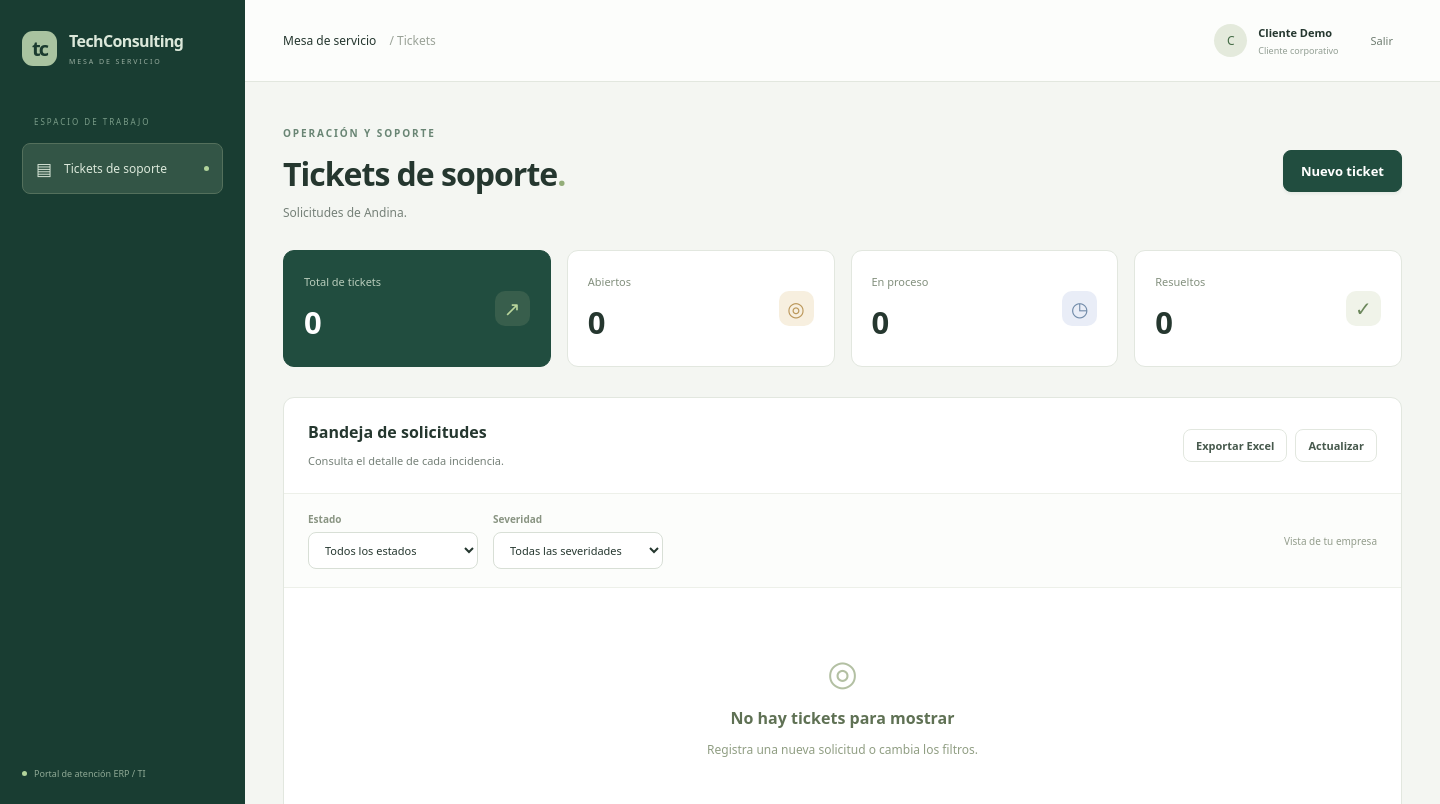
Test: Exportación de tickets › muestra el error sin descargar un archivo inválido
Click the button "Exportar Excel": (1235, 446) [1183,429,1287,462]
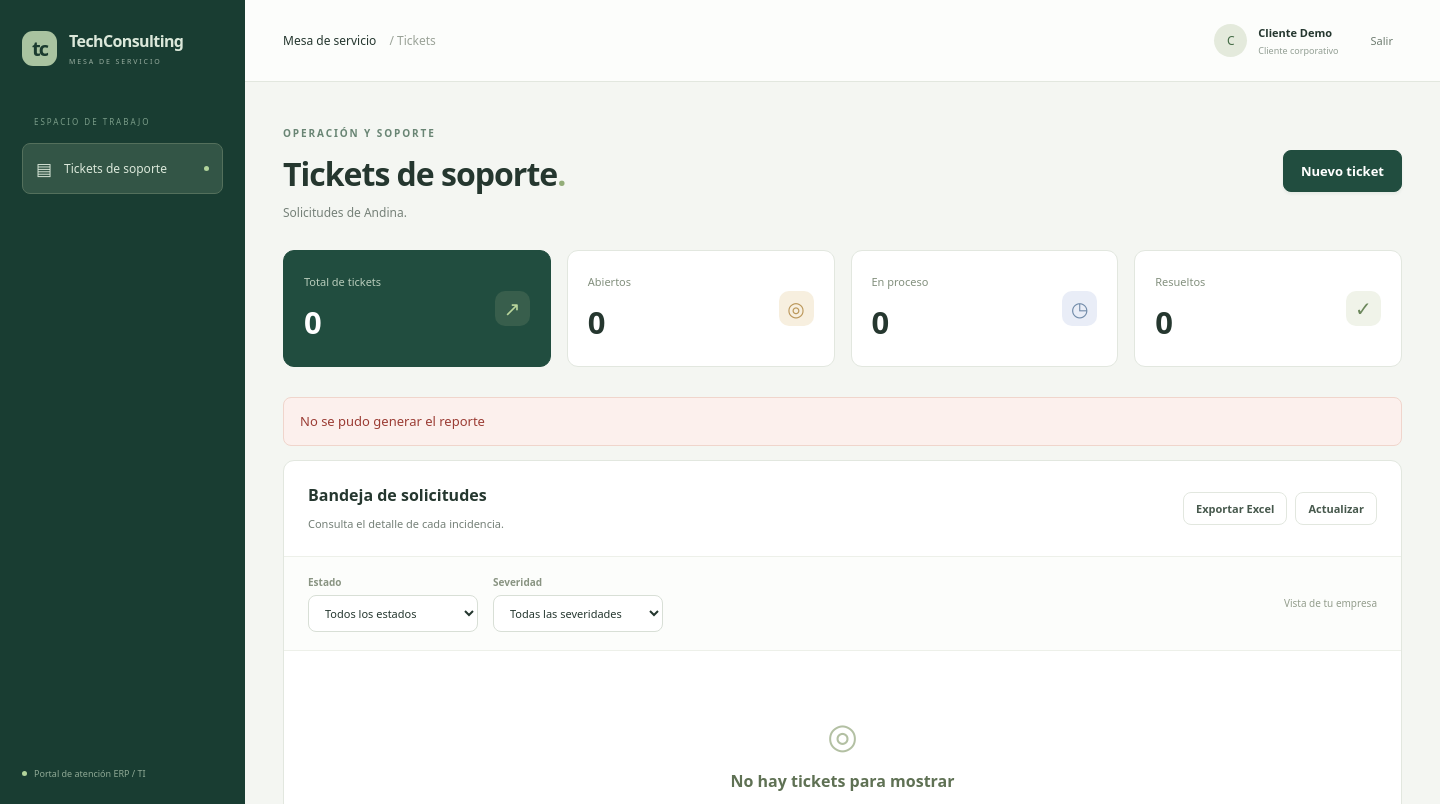
Expected: the message reads "No se pudo generar el reporte", [300,412,485,430]
